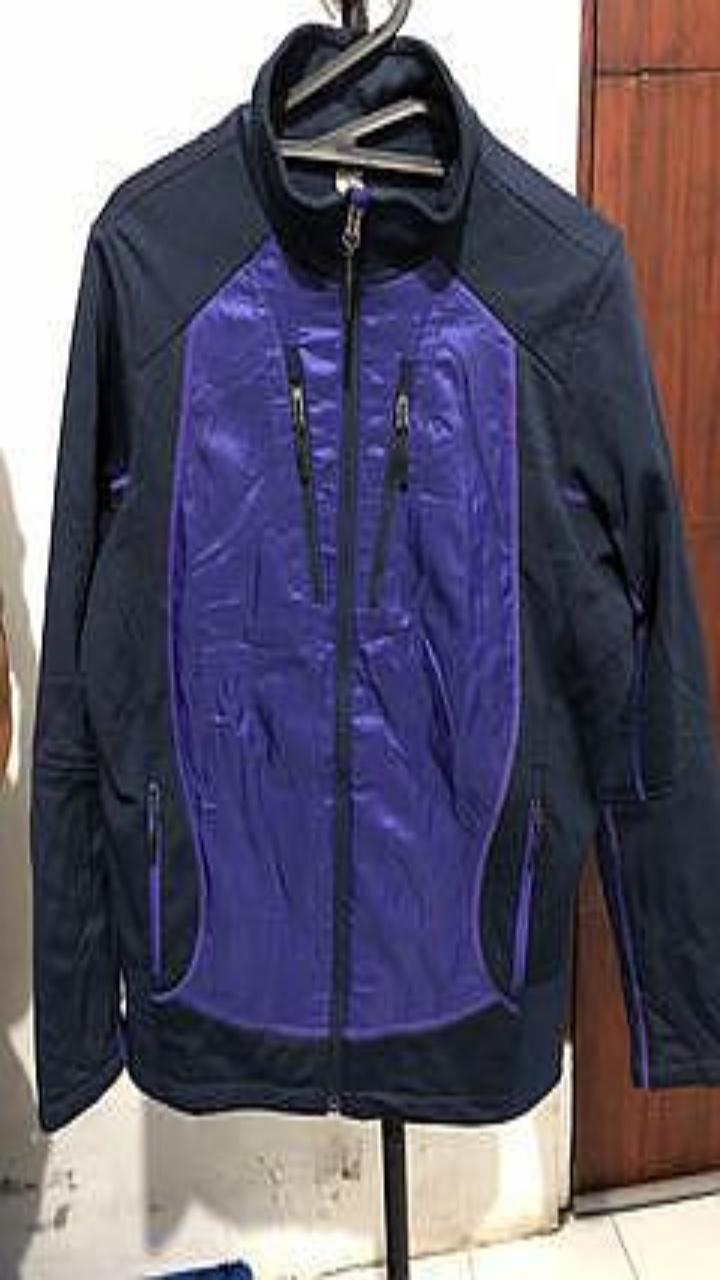Sports_Jacket: (30, 23, 719, 1129)
